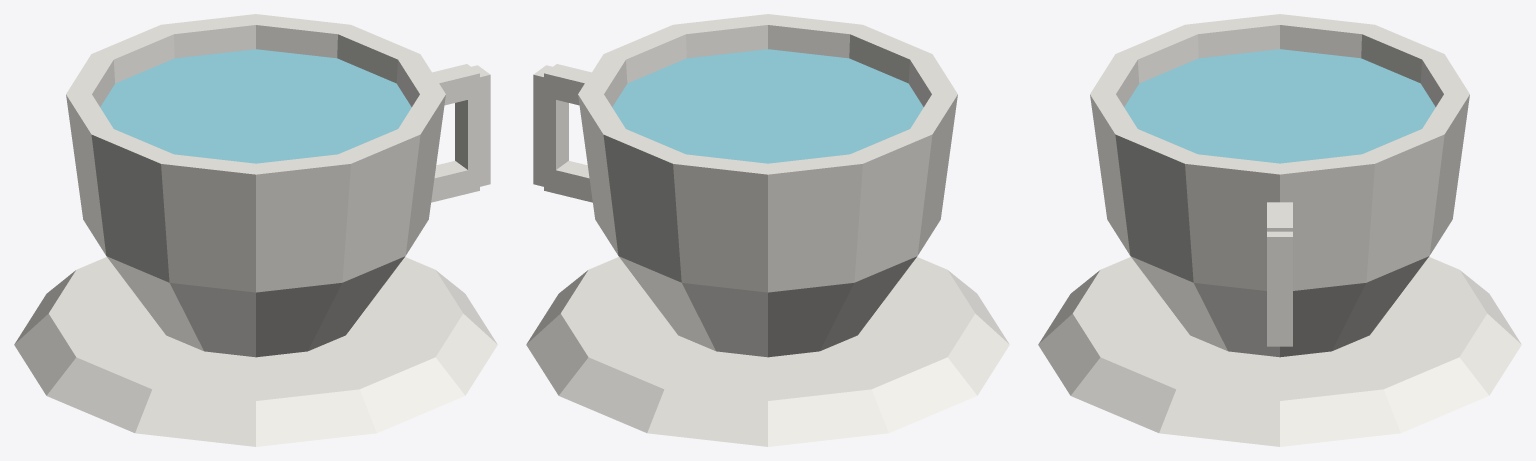
The model's file is deco_teacup.obj.
3 views of the same model, side by side, from view 1: azimuth 30°, elevation 25°; view 2: azimuth 150°, elevation 25°; view 3: azimuth 270°, elevation 25° (orthographic).
Parts seen in each view (by area): view 1: deco_teacup; view 2: deco_teacup; view 3: deco_teacup.
Boxes of the visible parts, x1,y1,x2,y2 form: deco_teacup: [14, 14, 497, 446]; deco_teacup: [526, 14, 1009, 446]; deco_teacup: [1038, 14, 1521, 446].
Bounding box in the file's own units: 0.0293 × 0.016 × 0.028.
1 material, 1 textured.
